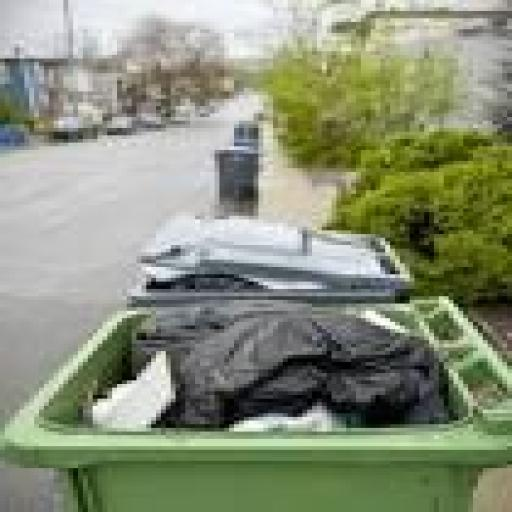poubelle_pleine: (0, 278, 512, 507)
